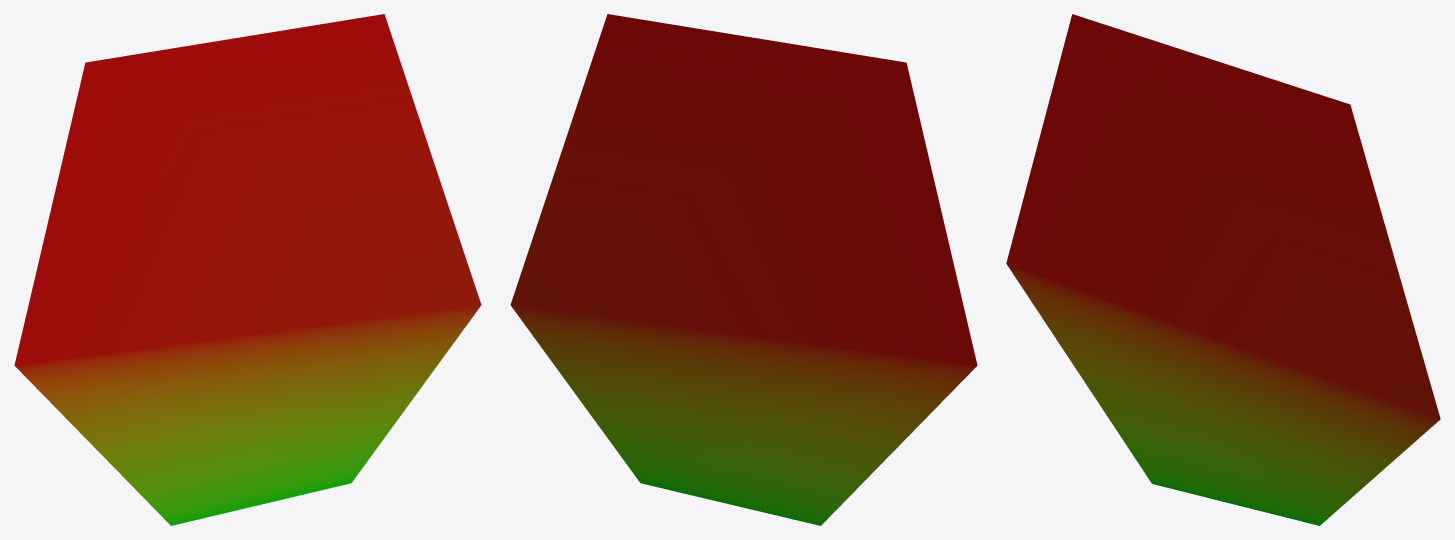
Rendered from Var4_LOD5.fbx.
The picture shows the model from 3 angles, left to right: view 1: azimuth 30°, elevation 25°; view 2: azimuth 150°, elevation 25°; view 3: azimuth 330°, elevation 25°; orthographic projection. The views are drawn at different scales.
Visible parts, largest first — view 1: _a5n2_Var4_LOD5; view 2: _a5n2_Var4_LOD5; view 3: _a5n2_Var4_LOD5.
Boxes of the visible parts, <box> form: _a5n2_Var4_LOD5: <box>14,14,481,525</box>; _a5n2_Var4_LOD5: <box>510,14,977,525</box>; _a5n2_Var4_LOD5: <box>1006,14,1440,525</box>.
Bounding box in the file's own units: 39.47 × 39.21 × 4.67e-06.
